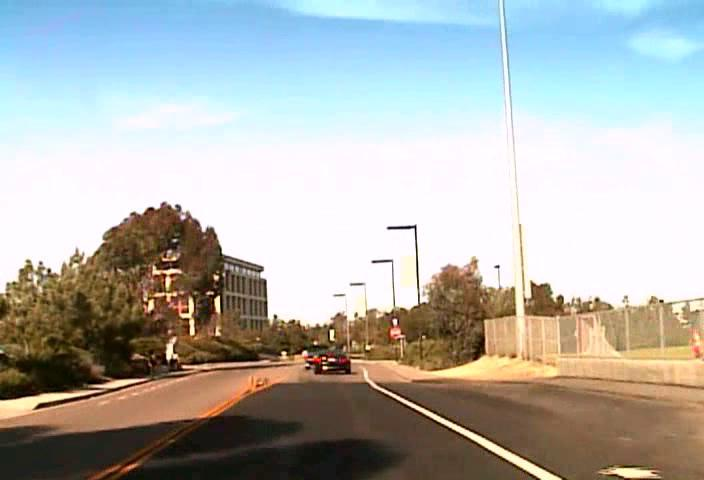stop: (389, 327, 401, 338)
